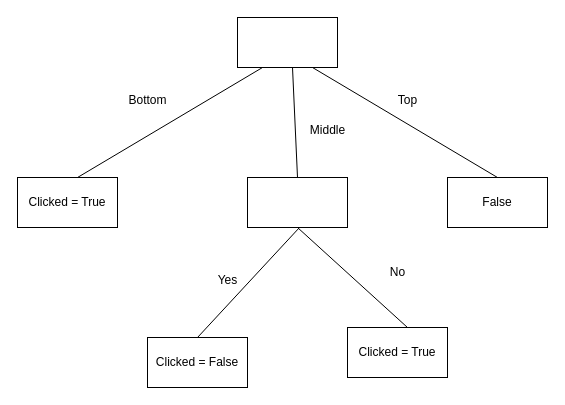
The diagram is 565 pixels wide and 405 high, and some of its shapes have lost their labels. Here are the shapes that lost their labels. From the top down, the box of each, then its label:
(236, 16, 338, 68): Position
(246, 176, 348, 228): Sound
